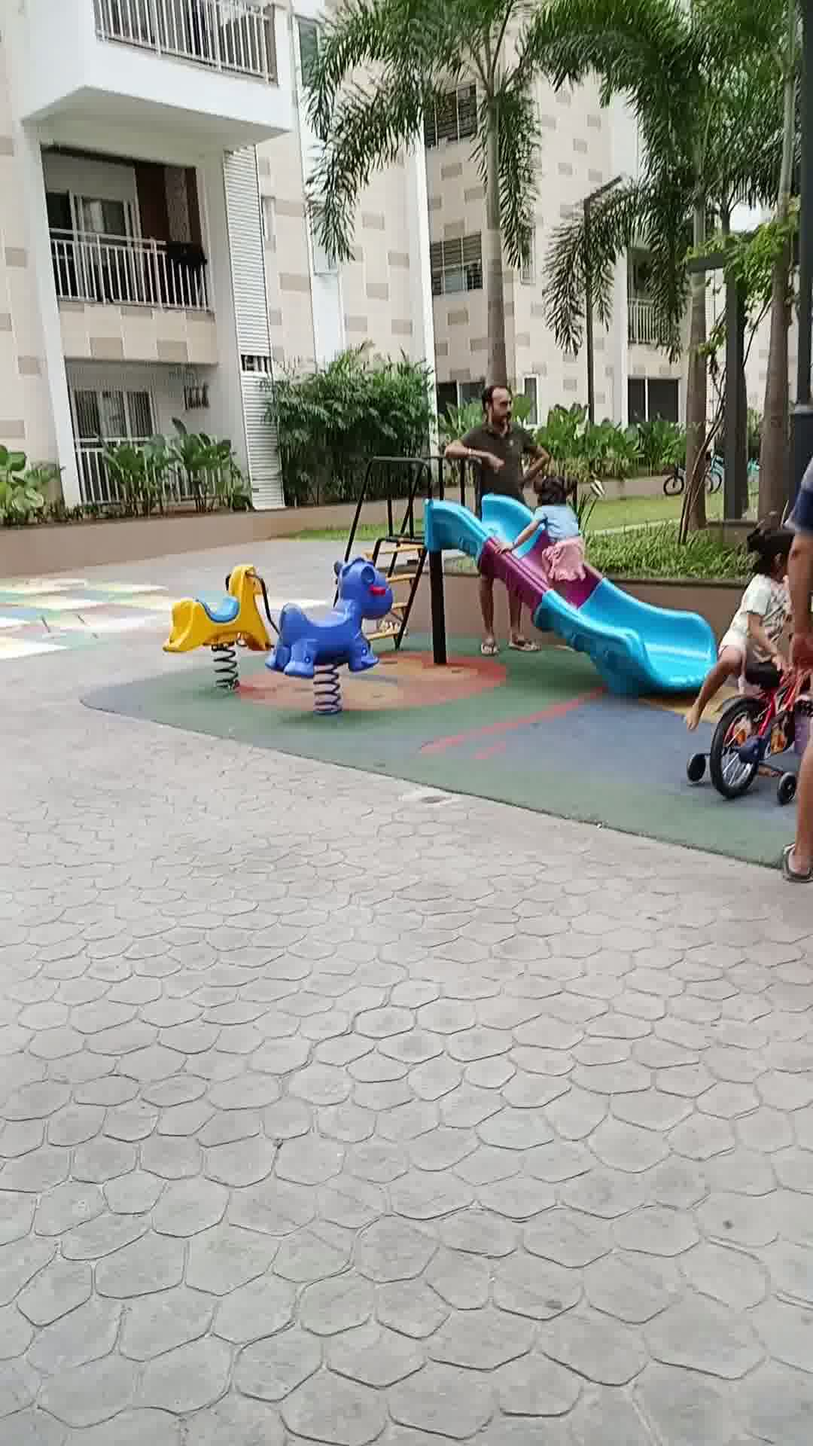bicycle: (700, 660, 813, 797)
person: (447, 376, 543, 675), (726, 490, 791, 737), (495, 433, 589, 603)
tree: (287, 0, 660, 512), (683, 3, 813, 547)
